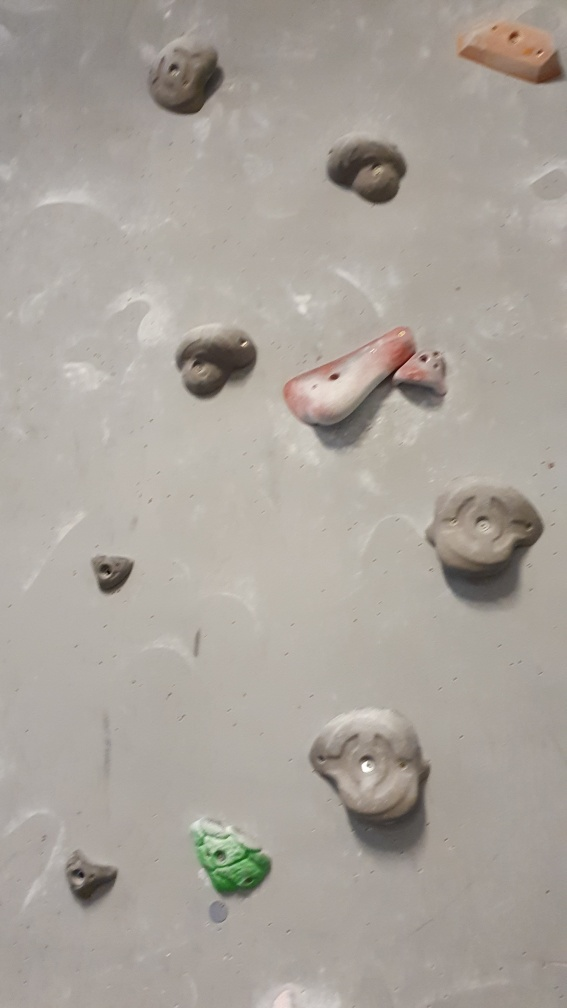Hand Start: (207, 899, 230, 925)
Jug: (306, 708, 435, 828), (427, 475, 544, 581), (323, 128, 408, 207), (147, 34, 224, 116), (175, 321, 257, 398), (396, 344, 454, 403)
Pinch: (454, 13, 567, 86)
